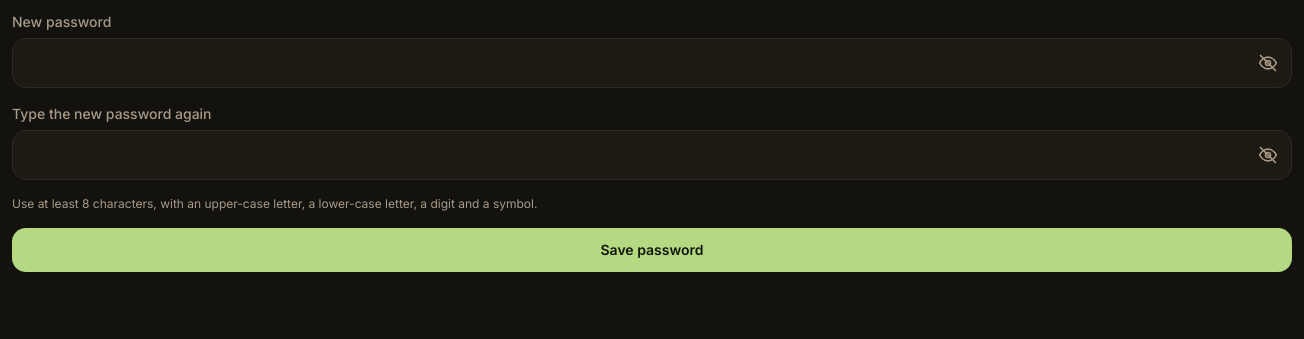
it: changing the password while signed in (issue #65) › says why a change was refused, in the banner
The image size is (1304, 339).
Type "Abcdef1!" into the password field labelled "New password" at (652, 63), box 12,38 -> 1292,88
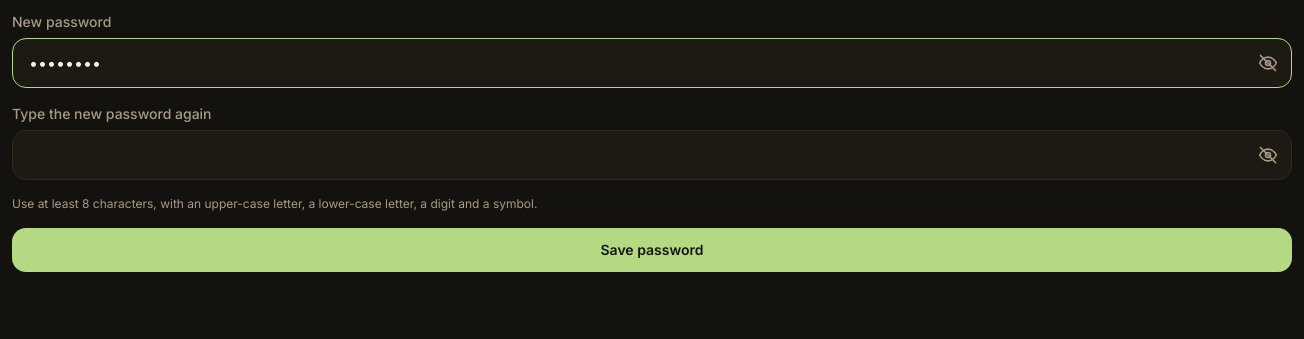
Type "Abcdef1!" into the password field labelled "Type the new password again" at (652, 155), box 12,130 -> 1292,180
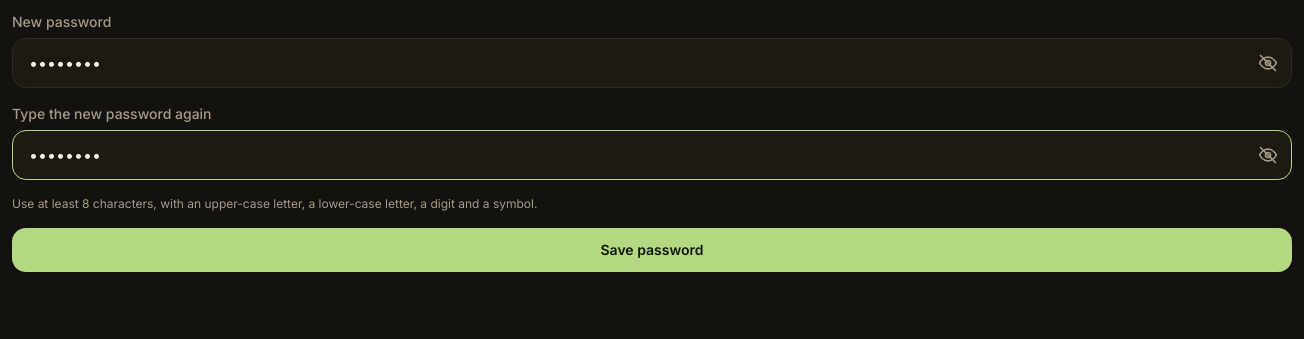
Click the button "Save password" at (652, 250), box 12,228 -> 1292,272
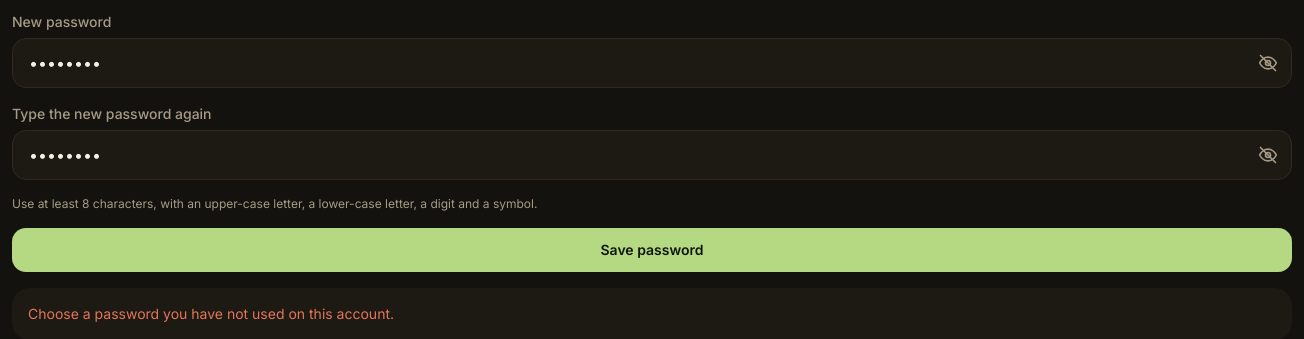
Result: the message shows "have not used" at 28,305 -> 394,322
